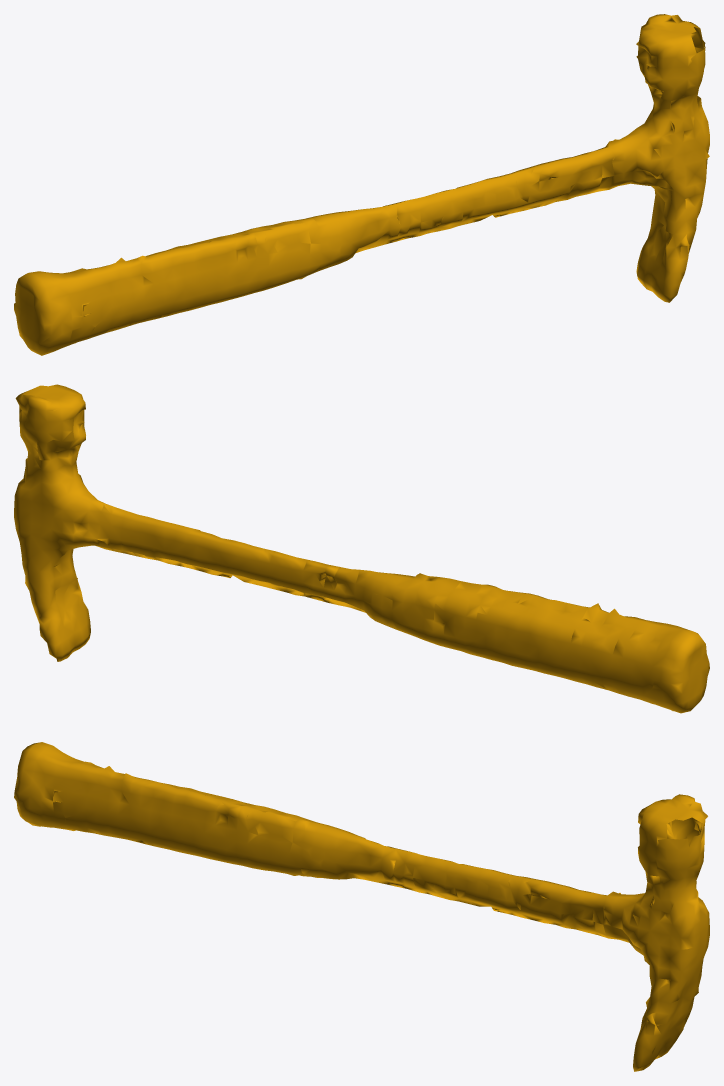
The model's file is model_origin.obj.
The picture shows the model from 3 angles, top to bottom: view 1: azimuth 30°, elevation 25°; view 2: azimuth 150°, elevation 25°; view 3: azimuth 330°, elevation 25°; orthographic projection.
Size of the model in its own units: 1 by 0.3697 by 0.092.
